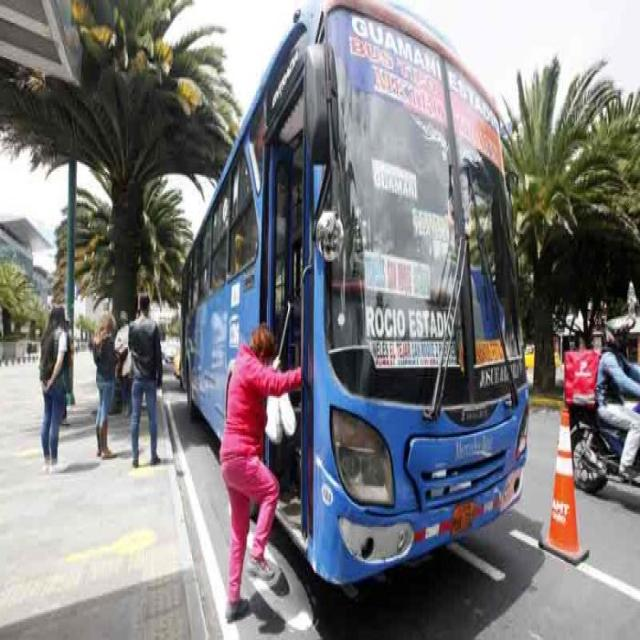BUS: (169, 19, 528, 491)
MOTORCYCLE: (568, 411, 640, 493)
